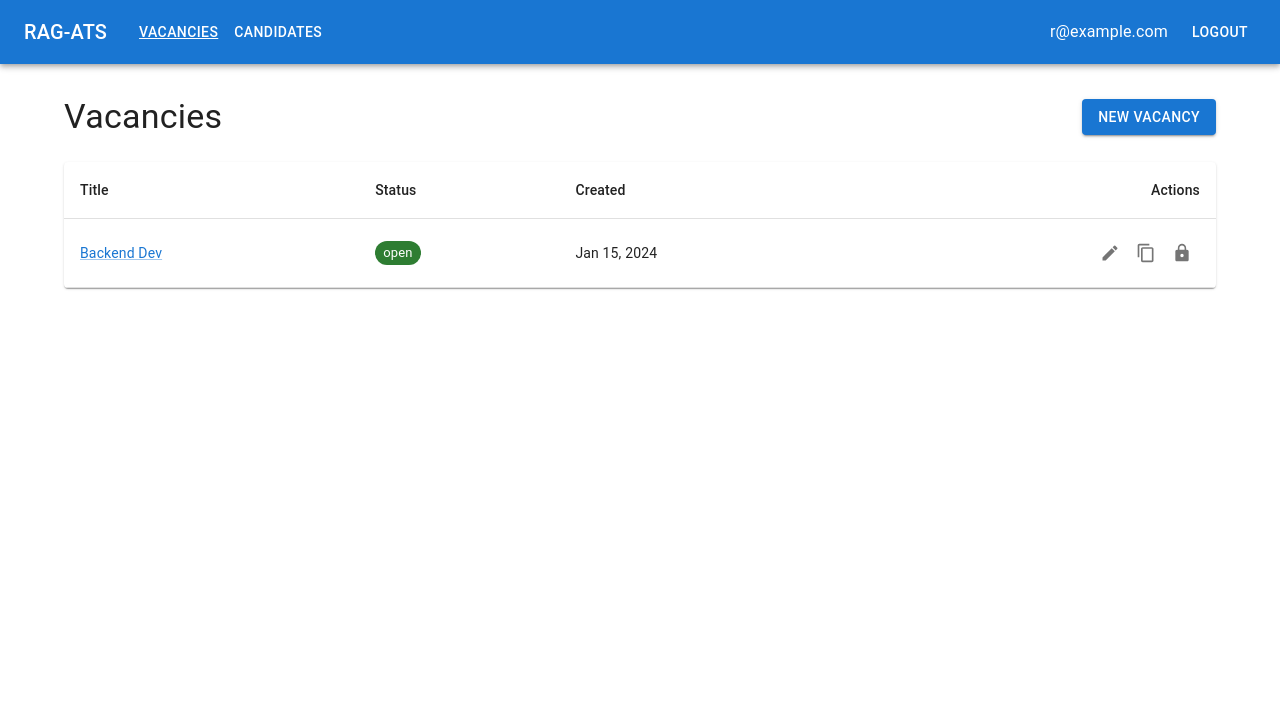
it: VacanciesPage › shows an error snackbar on a failed close and leaves the chip unchanged
The image size is (1280, 720).
Expected: the link "Backend Dev" is shown, [80, 245, 162, 261]
What coordinates should you click on to do the following:
click the button named "Close Backend Dev"
I would click on:
 (1182, 253)
Its box is [1164, 235, 1200, 271].
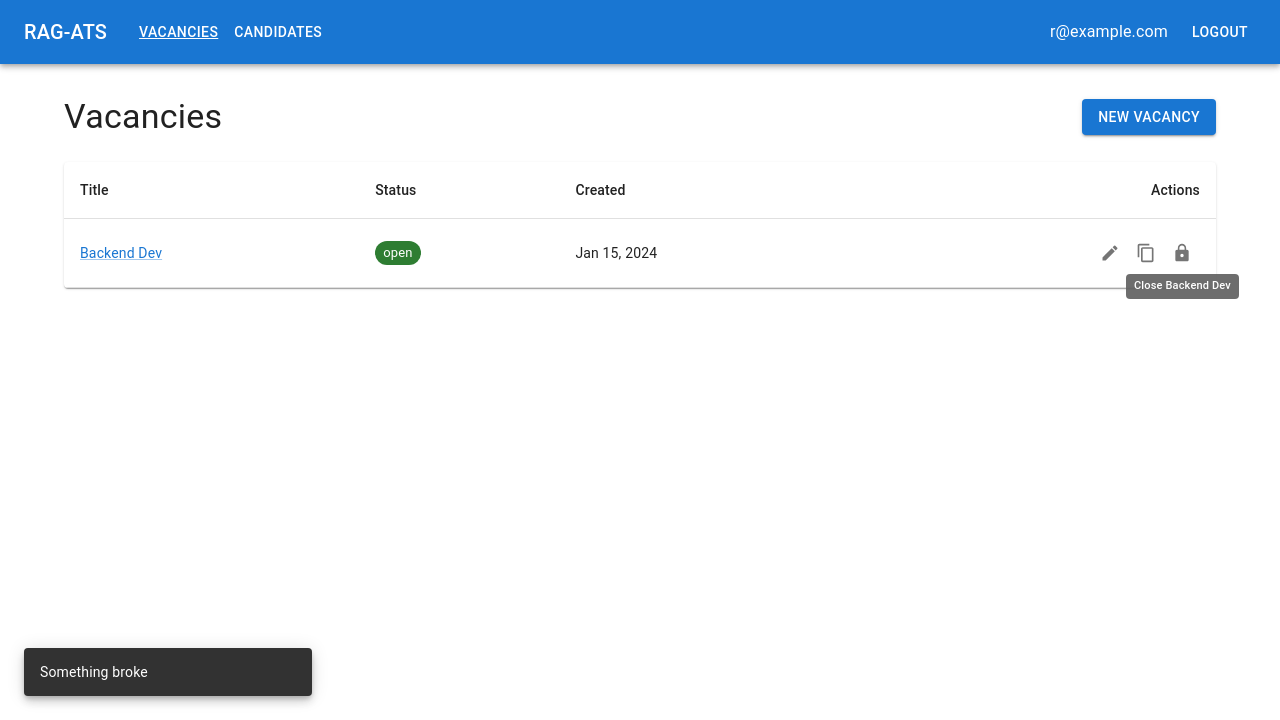
Expected: the text "open" is shown, [383, 245, 413, 260]
Now the text "Something broke" is shown, box [40, 664, 148, 680]
